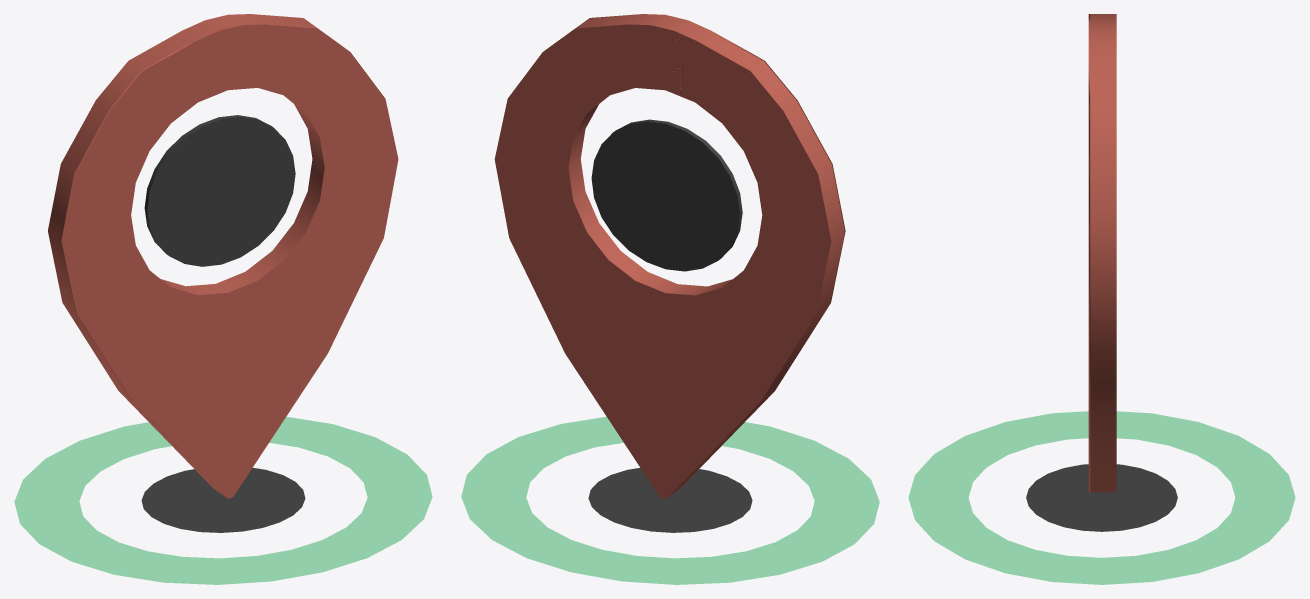
File: navigation.glb
3 views of the same model, side by side, from view 1: azimuth 30°, elevation 25°; view 2: azimuth 150°, elevation 25°; view 3: azimuth 270°, elevation 25° (orthographic). The views are drawn at different scales.
Visible parts, largest first — view 1: polySurface1, polySurface2, polySurface4, polySurface3; view 2: polySurface1, polySurface2, polySurface4, polySurface3; view 3: polySurface2, polySurface1, polySurface3.
Part boxes in pixels (box(x1,y1,x2,y2)): polySurface1: box(48, 14, 398, 498); polySurface2: box(14, 416, 432, 584); polySurface4: box(144, 115, 295, 266); polySurface3: box(141, 468, 305, 532); polySurface1: box(494, 14, 845, 498); polySurface2: box(461, 416, 879, 584); polySurface4: box(591, 119, 742, 271); polySurface3: box(588, 468, 752, 532); polySurface2: box(908, 411, 1295, 584); polySurface1: box(1088, 14, 1116, 492); polySurface3: box(1026, 464, 1177, 531).
Size of the model in its own units: 0.0933 by 0.1155 by 0.0875.
